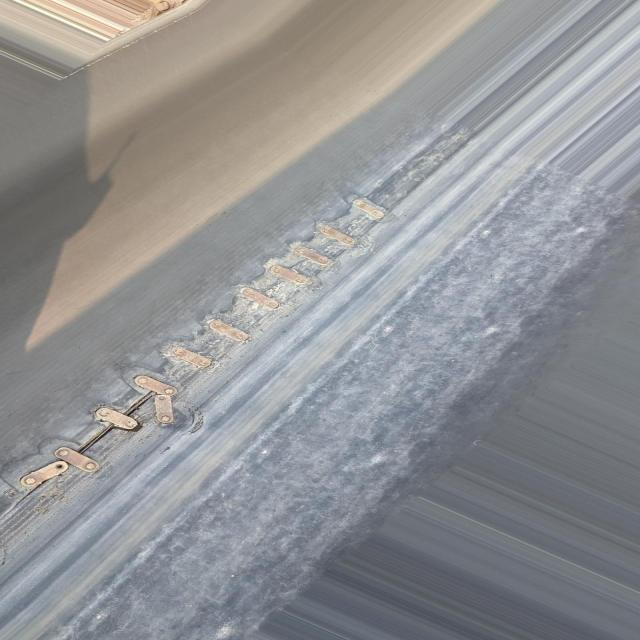patch work: (6, 174, 415, 562)
